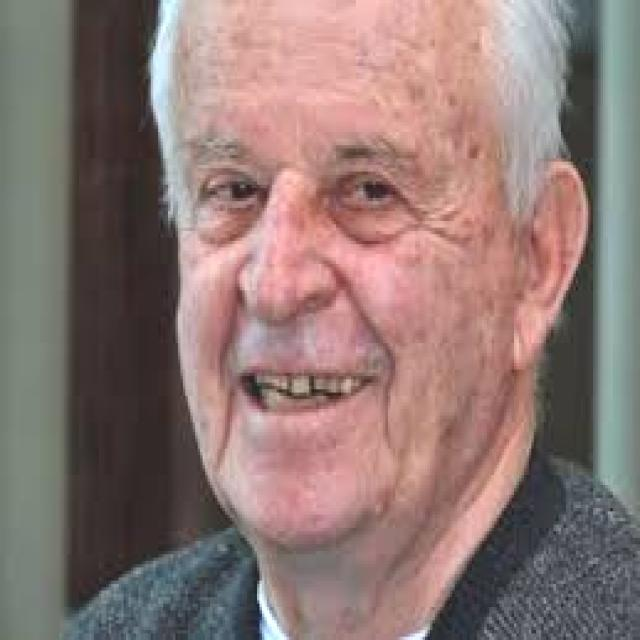normal_face: (158, 6, 565, 578)
